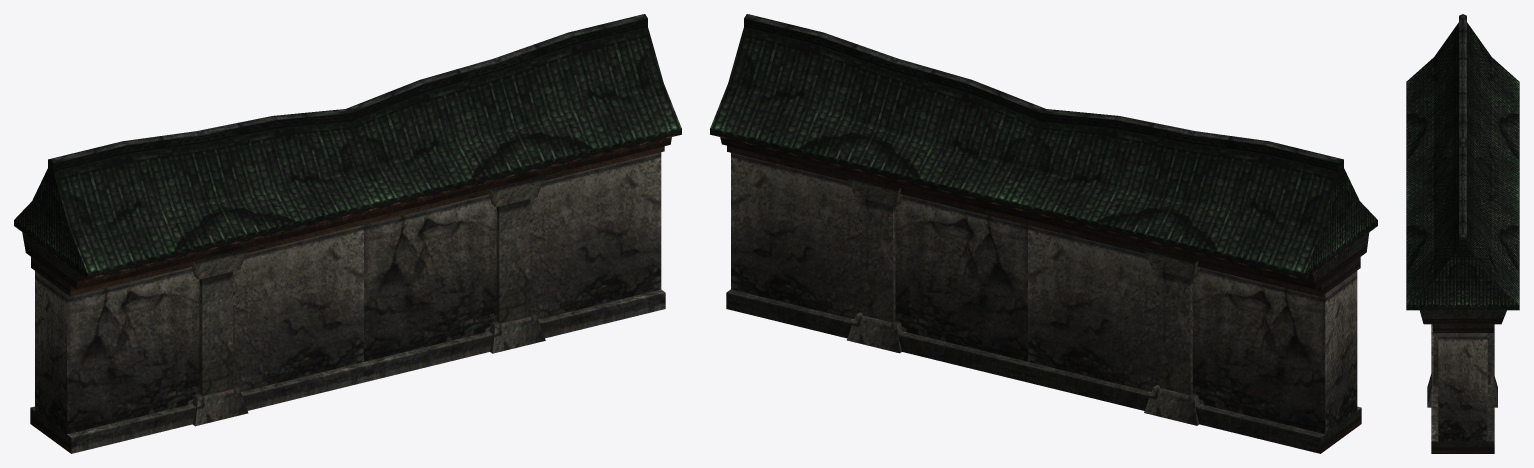
File: c1-038-wall-lin2_01.glb
3 views of the same model, side by side, from view 1: azimuth 30°, elevation 25°; view 2: azimuth 150°, elevation 25°; view 3: azimuth 270°, elevation 25° (orthographic). The views are drawn at different scales.
Parts seen in each view (by area): view 1: c1-038-wall; view 2: c1-038-wall; view 3: c1-038-wall.
Boxes of the visible parts, x1,y1,x2,y2 form: c1-038-wall: (14, 14, 681, 453); c1-038-wall: (710, 14, 1377, 453); c1-038-wall: (1406, 14, 1519, 453).
Bounding box in the file's own units: 10 × 4.5 × 2.13.
Materials: 1 (1 with a texture image).
